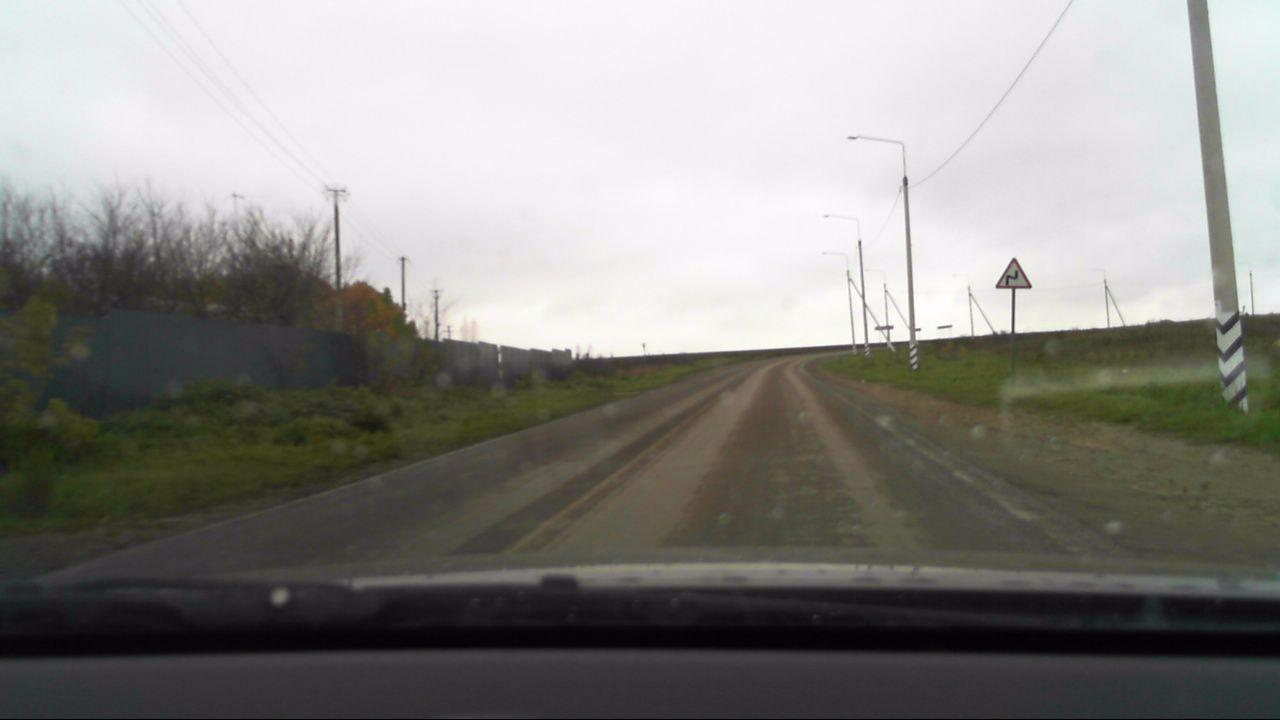1_12_1: (994, 255, 1035, 293)
